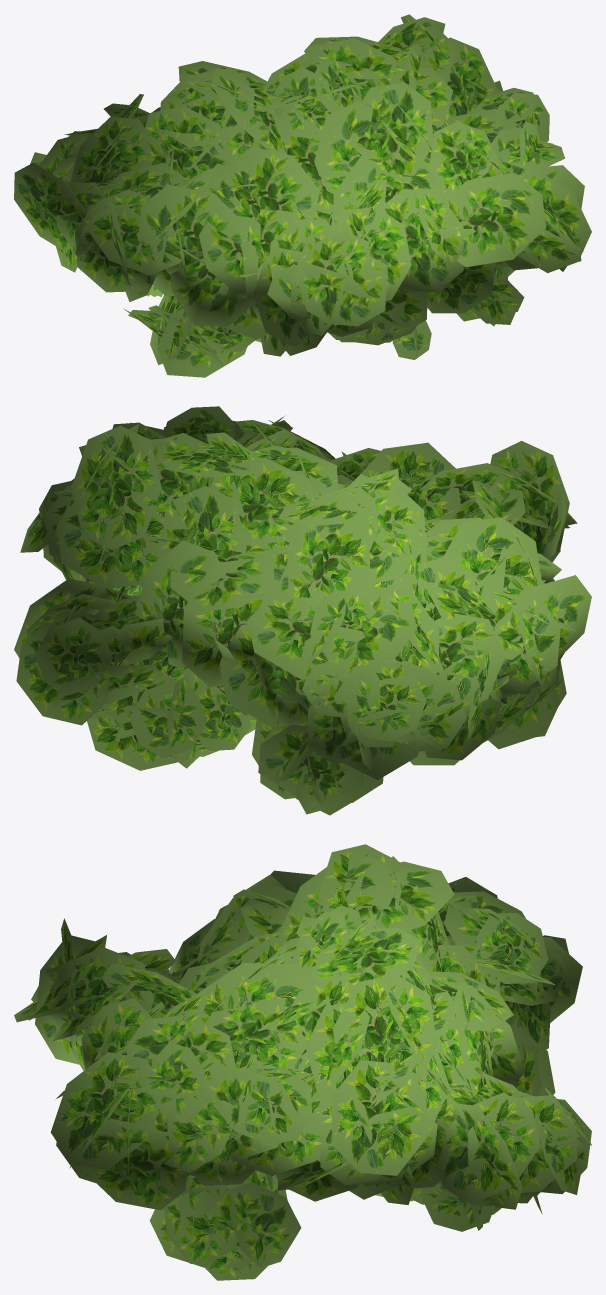
Rendered from BushLeaves_01.fbx.
3 views of the same model, one above another, from view 1: azimuth 30°, elevation 25°; view 2: azimuth 150°, elevation 25°; view 3: azimuth 270°, elevation 25° (orthographic). The views are drawn at different scales.
Visible parts, largest first — view 1: pPlane776; view 2: pPlane776; view 3: pPlane776.
Part boxes in pixels (x1,y1,x2,y2): pPlane776: [14, 14, 591, 377]; pPlane776: [14, 406, 591, 815]; pPlane776: [14, 844, 591, 1280].
Size of the model in its own units: 153 by 89.9 by 143.
Materials: 1 (1 with a texture image).
